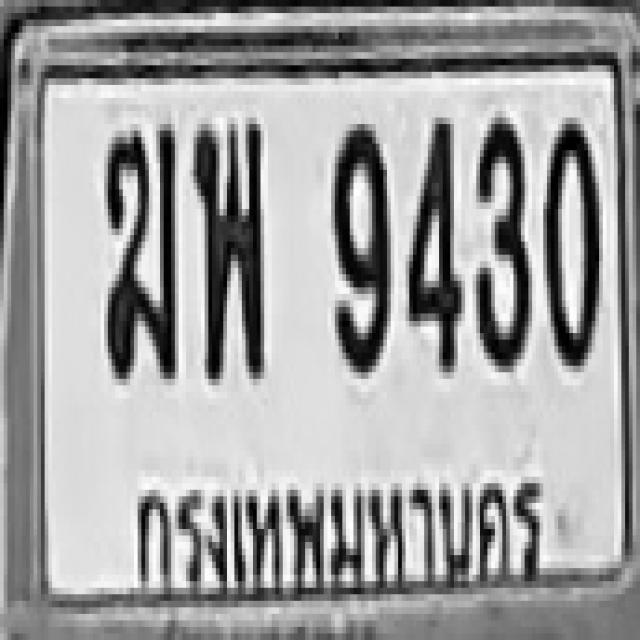0: (543, 117, 599, 366)
15KhorRaKhang: (100, 118, 175, 372)
3: (472, 111, 528, 366)
39PhorPan: (190, 114, 260, 376)
4: (406, 111, 458, 366)
9: (331, 114, 387, 369)
Bangkok: (118, 462, 562, 608)
